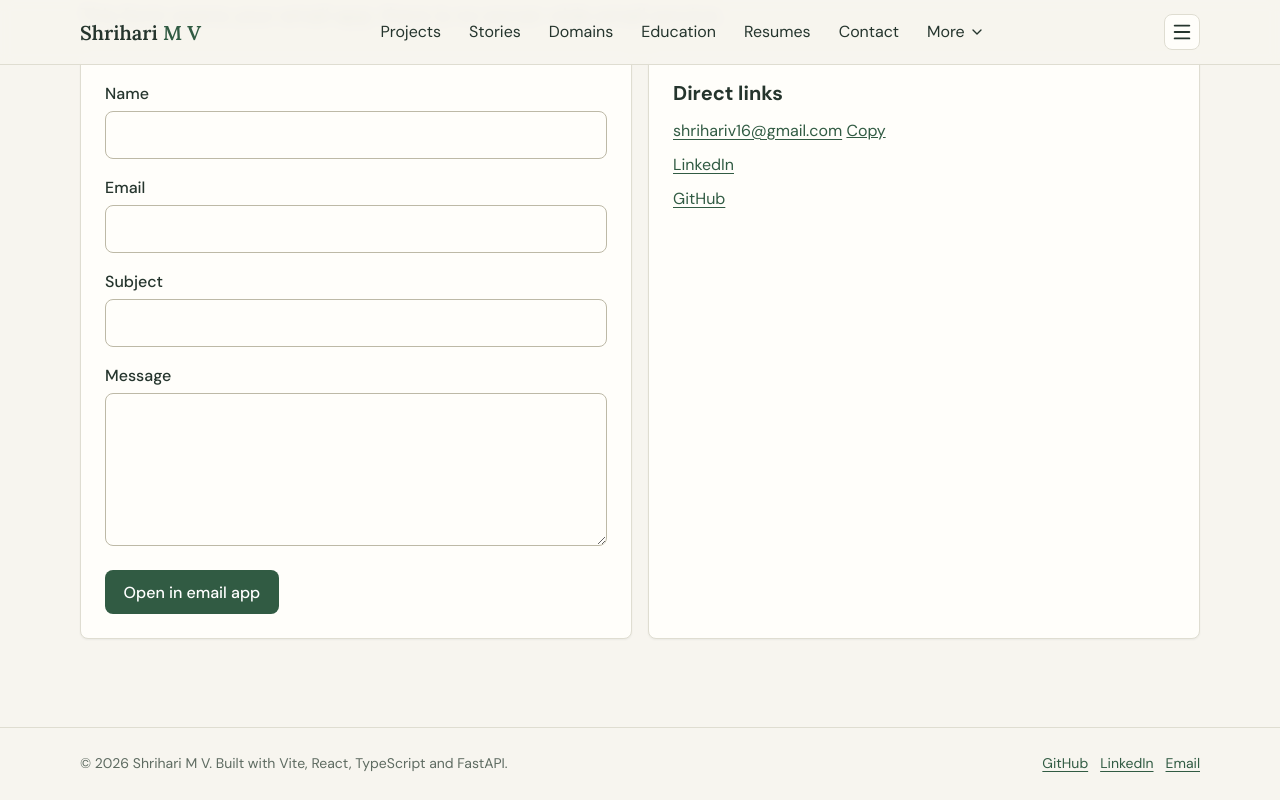
Test case: public portfolio › contact form validates and does not claim a message was sent
(page scrolled)
Click the button "Open in email app" at (192, 592), box [105, 570, 279, 614]
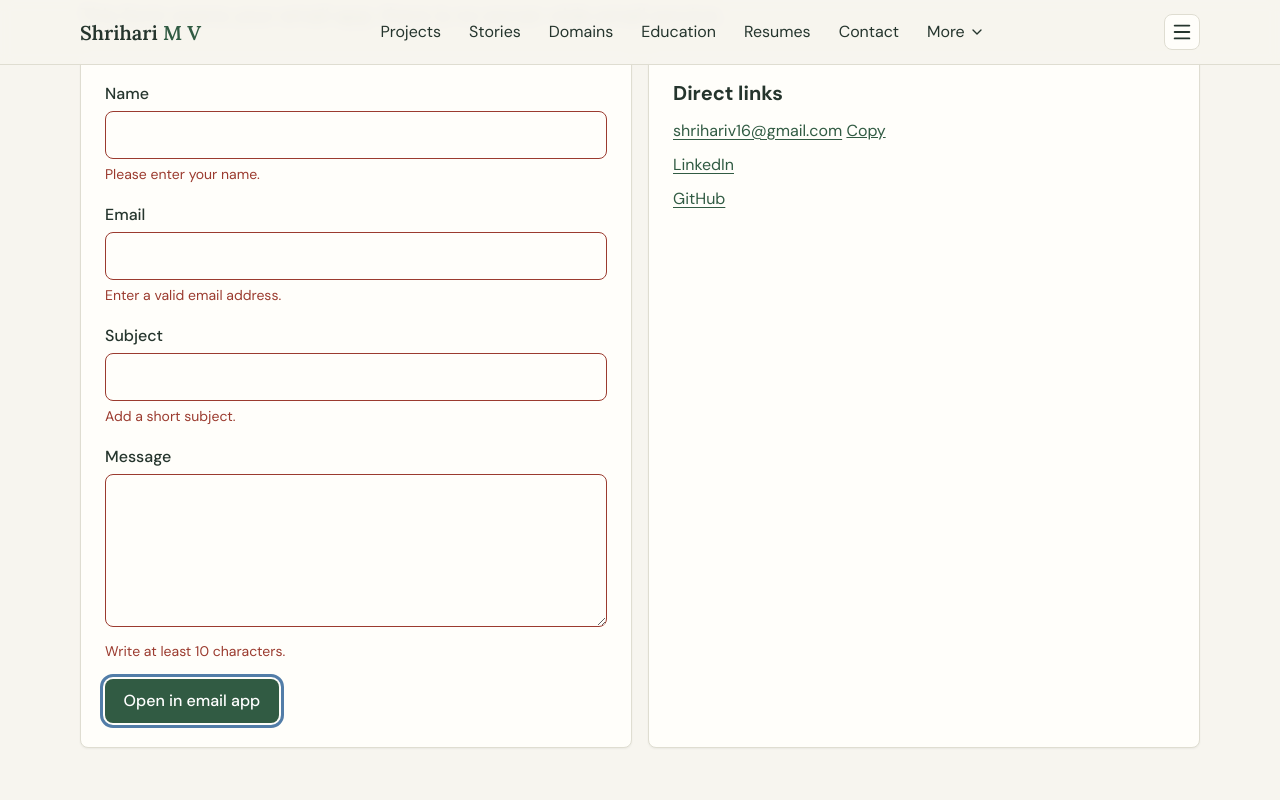
Now the text "Please enter your name." is shown, box [105, 165, 260, 183]
